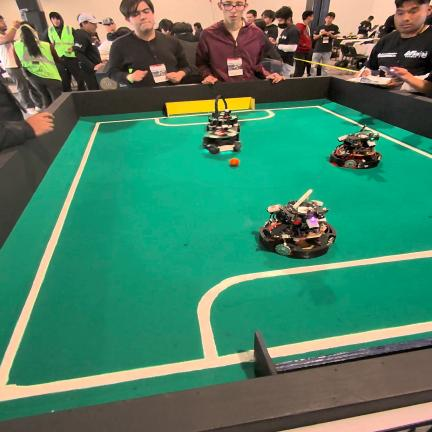cancha: (0, 100, 432, 420)
limites: (0, 117, 432, 401), (270, 321, 432, 357), (234, 99, 361, 126), (381, 134, 432, 159)
pelota: (230, 159, 239, 166)
robot: (259, 190, 336, 259), (329, 125, 382, 169), (203, 96, 241, 154)
